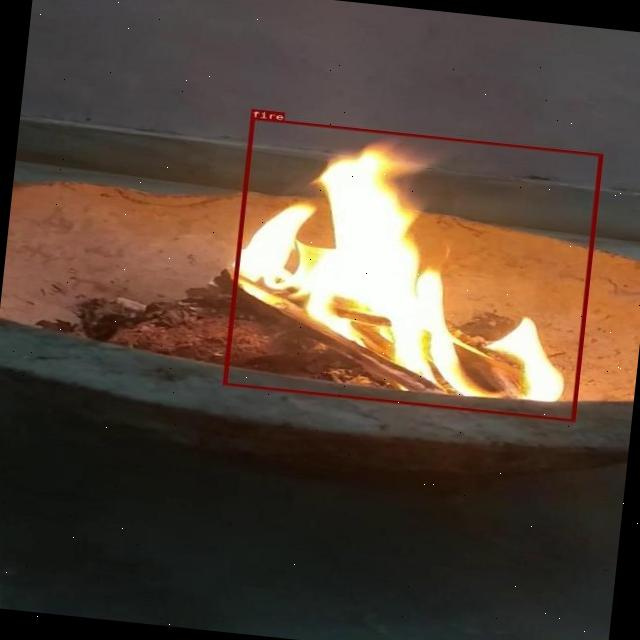fire: (221, 116, 602, 422)
